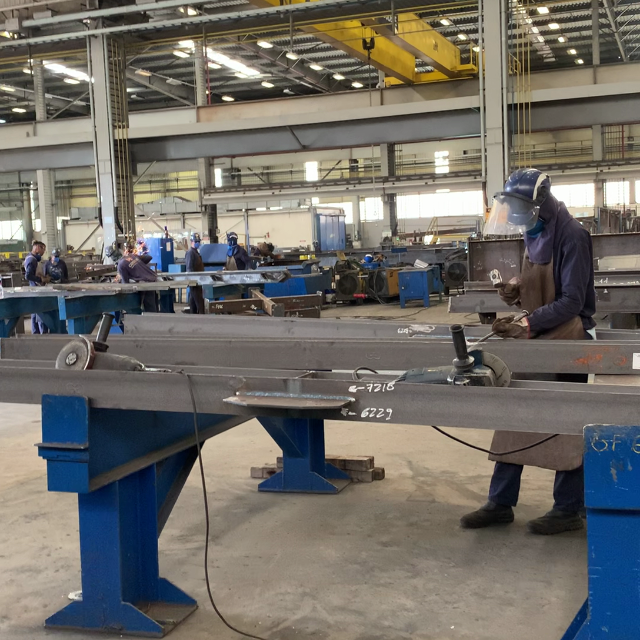face-shield: (481, 193, 538, 237)
glove: (491, 315, 525, 339), (498, 281, 521, 309)
helmet: (503, 167, 553, 204)
person: (458, 166, 596, 537)
safety-shoe: (529, 504, 587, 537), (460, 504, 517, 530)
